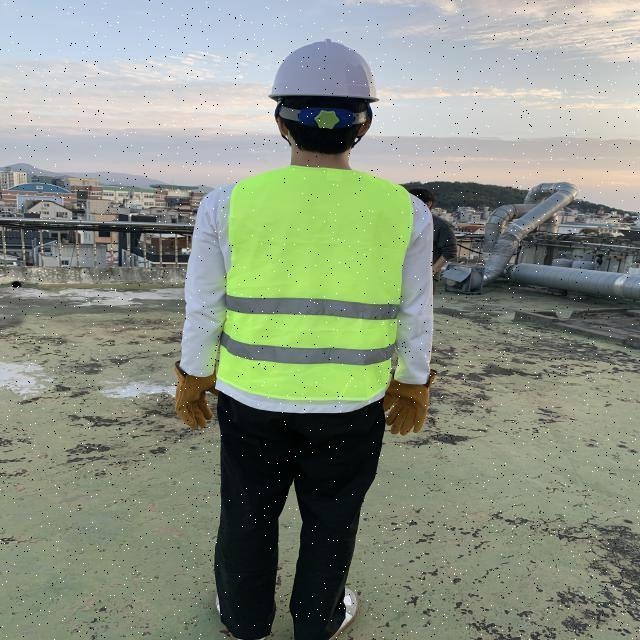Hard_hat: (255, 34, 384, 125)
Person: (169, 31, 455, 640)
Vest: (226, 166, 411, 405)
